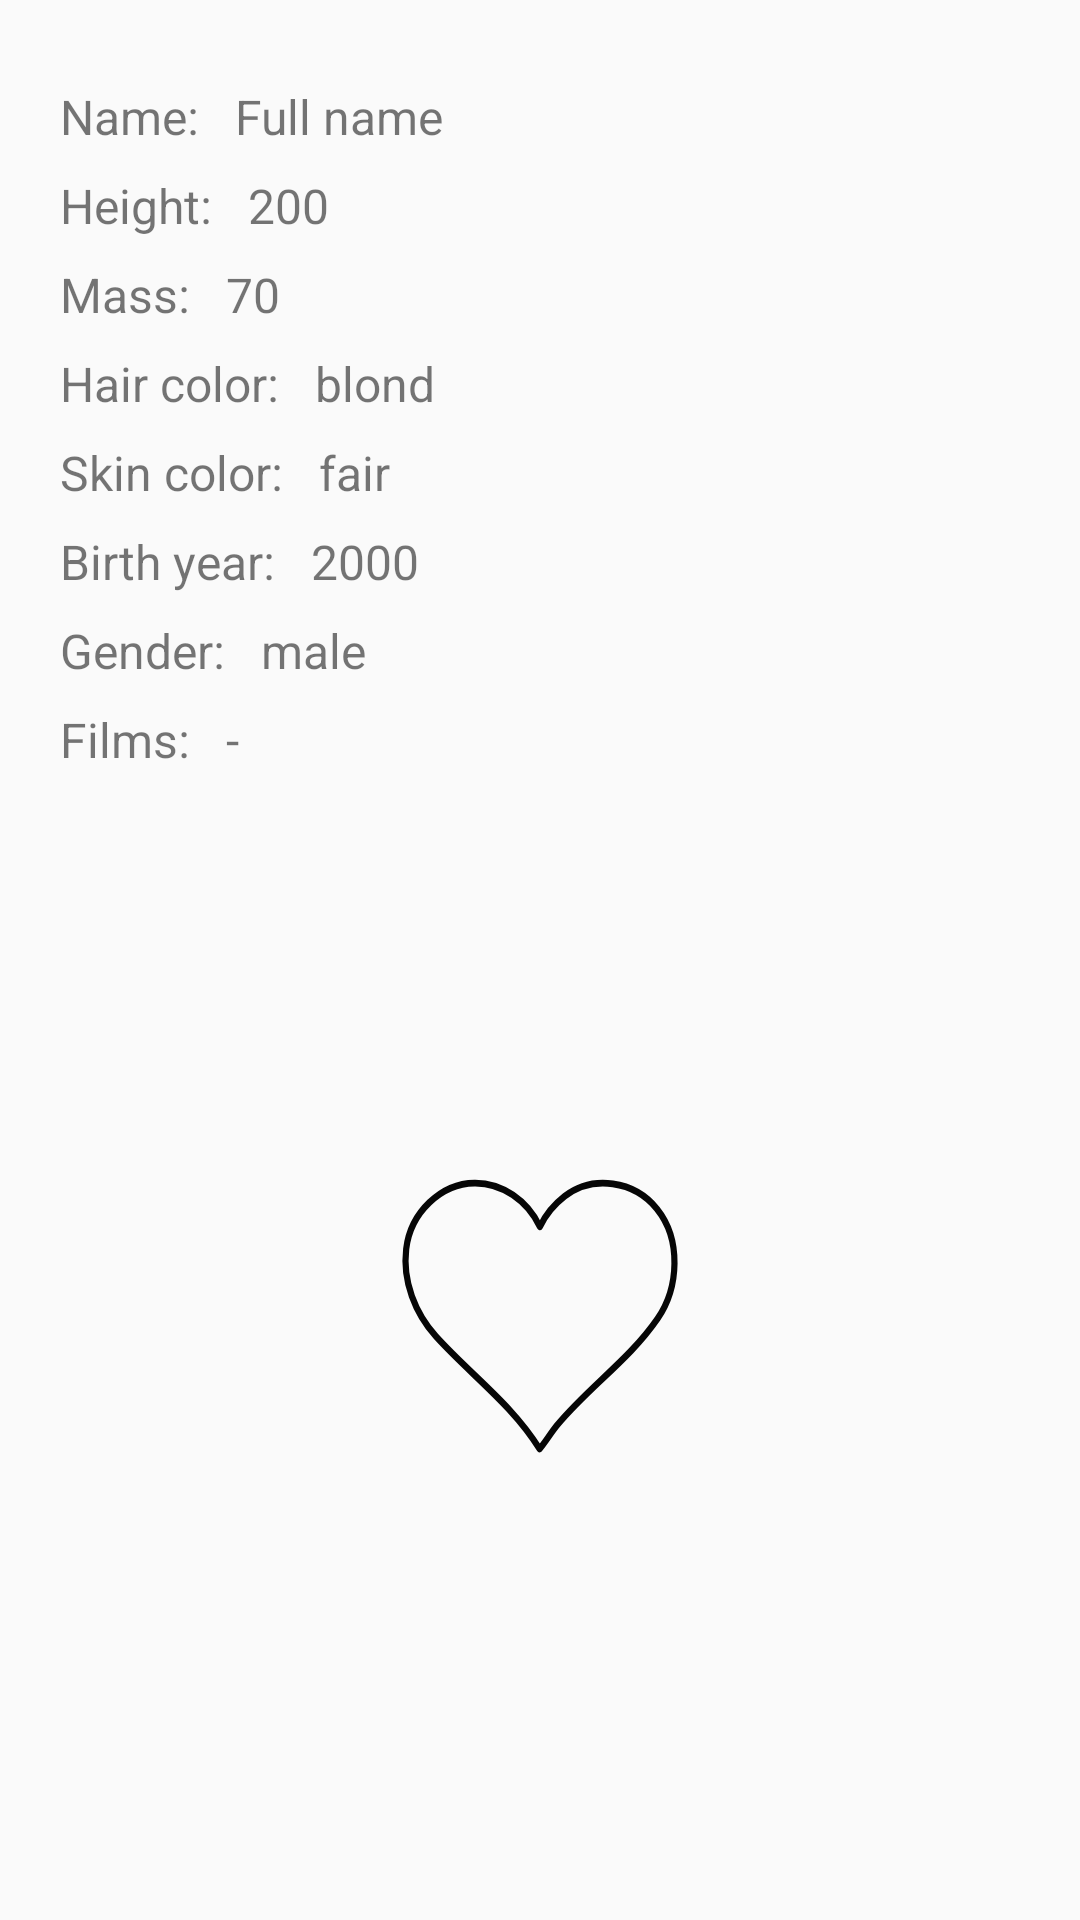

Where icons sit on this 1080w x 1920h app screen, as (x1, y1, x2, y2):
heart: (402, 1179, 678, 1453)
